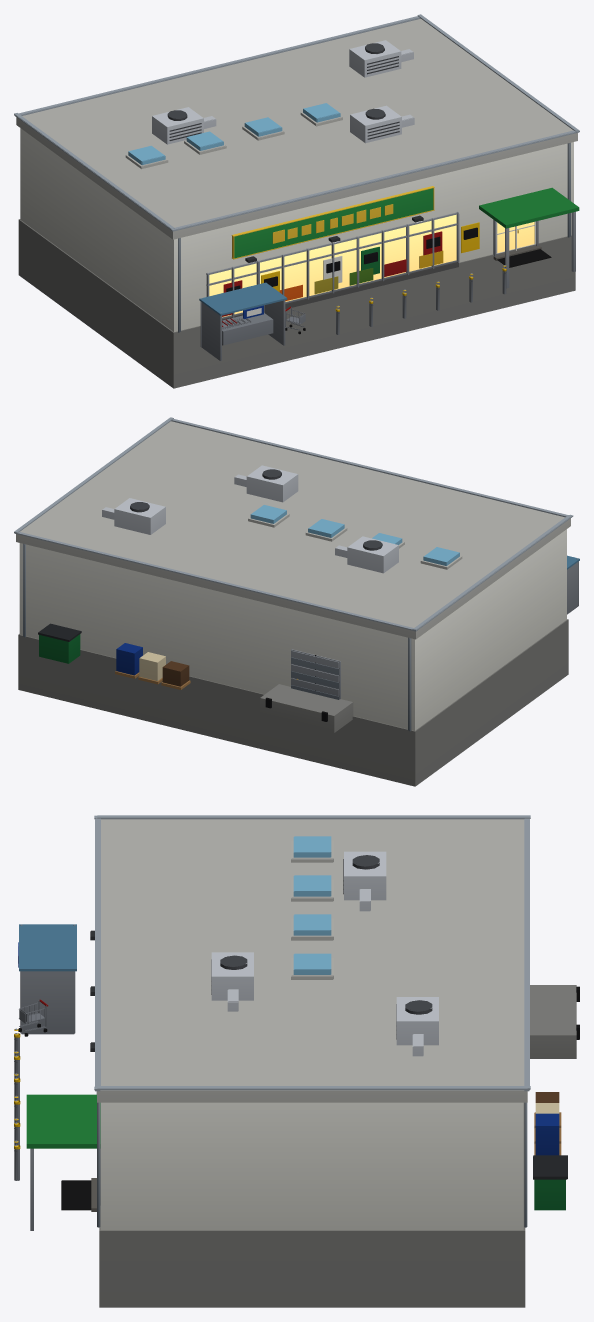
The model's file is Supermarket.fbx.
3 renders of one model, top to bottom at view 1: azimuth 30°, elevation 25°; view 2: azimuth 150°, elevation 25°; view 3: azimuth 270°, elevation 25°, orthographic. The views are drawn at different scales.
Parts seen in each view (by area): view 1: Supermarket_LOD0; view 2: Supermarket_LOD0; view 3: Supermarket_LOD0.
Part boxes in pixels (x1=…): Supermarket_LOD0: x1=14, y1=14, x2=579, y2=388; Supermarket_LOD0: x1=14, y1=417, x2=579, y2=786; Supermarket_LOD0: x1=14, y1=815, x2=579, y2=1307.
Size of what is drawn, in the model's own units: 24.46 by 10.24 by 21.42.
1 material, 1 textured.
